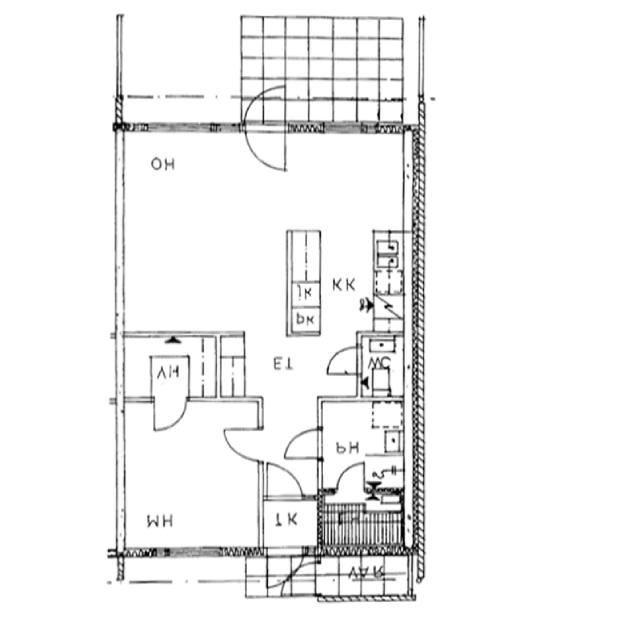door: (241, 91, 291, 175), (260, 459, 306, 503), (281, 425, 326, 463), (218, 422, 263, 460), (260, 543, 306, 579), (149, 395, 189, 436), (322, 342, 364, 381), (332, 459, 368, 493)
zone: (115, 394, 266, 553), (118, 3, 251, 127), (318, 398, 407, 494), (316, 493, 409, 554), (356, 330, 407, 400), (260, 498, 320, 557)
